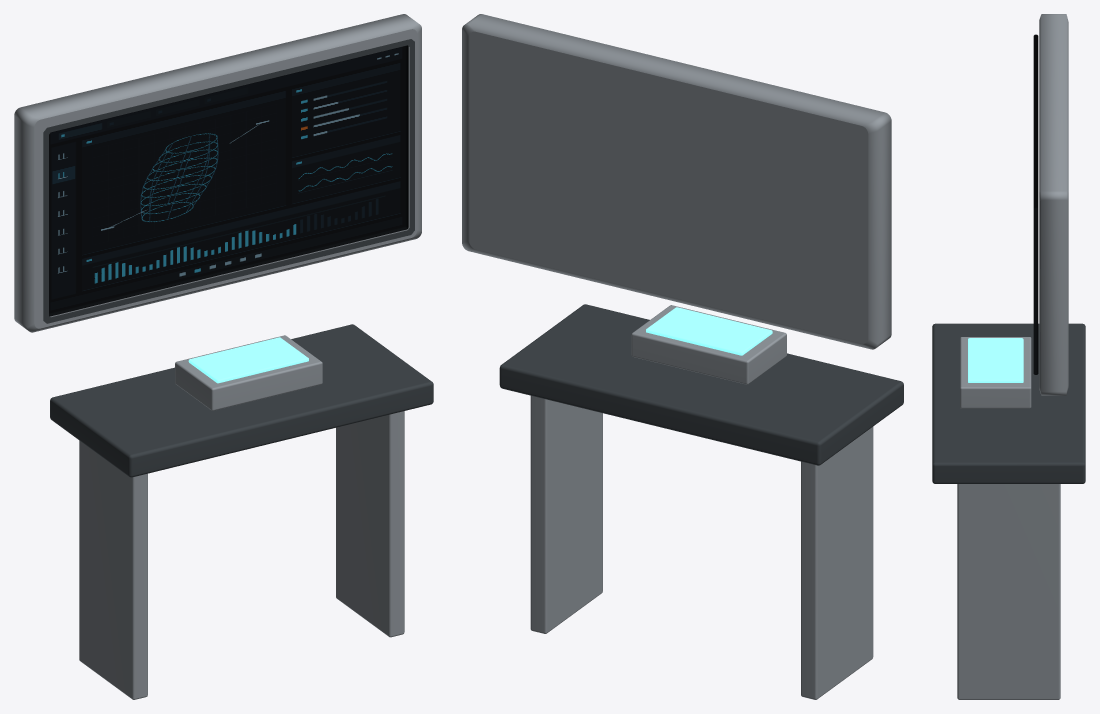
The model's file is ZH_ENV_SIGNAL_DIAGNOSTICS.fbx.
The picture shows the model from 3 angles, left to right: view 1: azimuth 30°, elevation 25°; view 2: azimuth 150°, elevation 25°; view 3: azimuth 270°, elevation 25°; orthographic projection. The views are drawn at different scales.
Parts seen in each view (by area): view 1: Diagnostics | black screen.001, Diagnostics | console deck.001, Diagnostics | wall monitor.001, Diagnostics | slender leg.002, Diagnostics | slender leg.003, Terminal | signal fine bezel.001, Diagnostics | tablet.001, Diagnostics | tablet screen.001; view 2: Diagnostics | wall monitor.001, Diagnostics | console deck.001, Diagnostics | slender leg.002, Diagnostics | slender leg.003, Diagnostics | tablet.001, Diagnostics | tablet screen.001; view 3: Diagnostics | slender leg.003, Diagnostics | console deck.001, Diagnostics | wall monitor.001, Diagnostics | tablet.001, Diagnostics | tablet screen.001, Diagnostics | black screen.001.
Part boxes in pixels (x1,y1,x2,y2): Diagnostics | black screen.001: (49,45,408,316); Diagnostics | console deck.001: (50,324,433,477); Diagnostics | wall monitor.001: (14,14,421,332); Diagnostics | slender leg.002: (79,440,147,699); Diagnostics | slender leg.003: (336,411,404,637); Terminal | signal fine bezel.001: (43,39,414,323); Diagnostics | tablet.001: (175,335,322,410); Diagnostics | tablet screen.001: (188,337,308,383); Diagnostics | wall monitor.001: (462,14,891,349); Diagnostics | console deck.001: (499,304,903,465); Diagnostics | slender leg.002: (801,427,873,699); Diagnostics | slender leg.003: (530,395,602,633); Diagnostics | tablet.001: (631,305,786,384); Diagnostics | tablet screen.001: (646,307,772,355); Diagnostics | slender leg.003: (957,484,1060,699); Diagnostics | console deck.001: (932,323,1085,483); Diagnostics | wall monitor.001: (1039,14,1068,395); Diagnostics | tablet.001: (960,337,1031,408); Diagnostics | tablet screen.001: (968,338,1023,382); Diagnostics | black screen.001: (1033,34,1038,374).
Bounding box in the file's own units: 1.63 × 2.23 × 0.58.
Materials: 4 (1 with a texture image).
